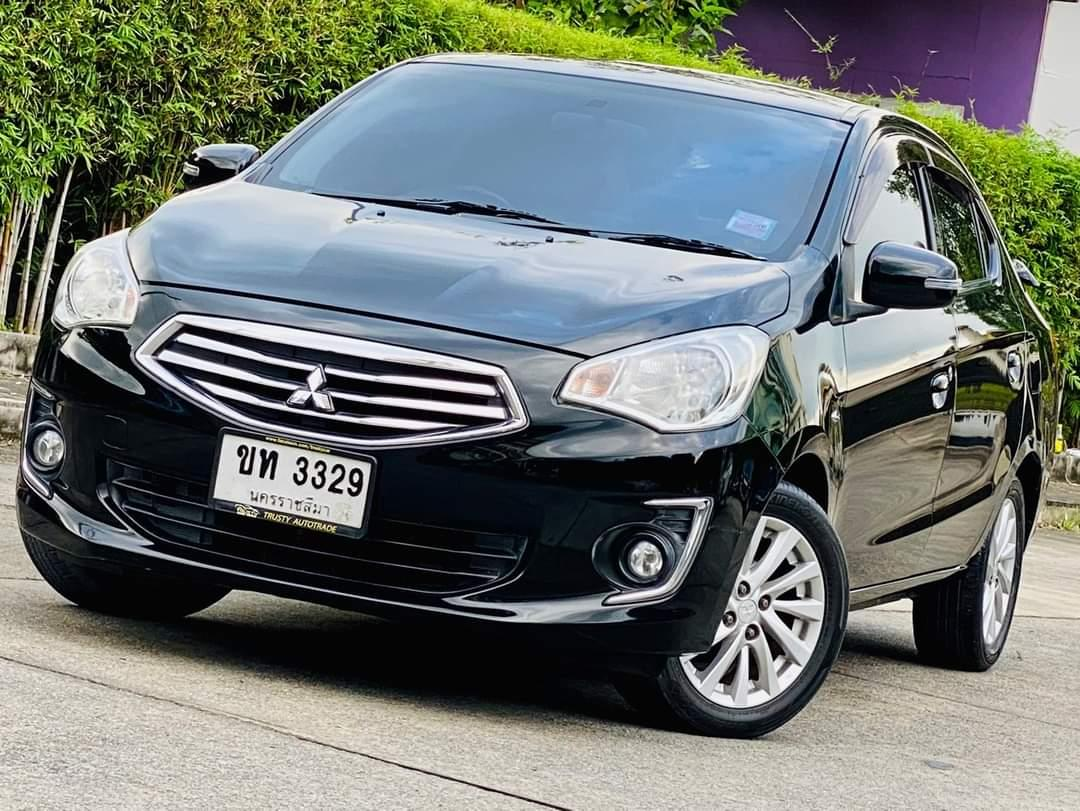license-plate: (196, 421, 380, 550)
